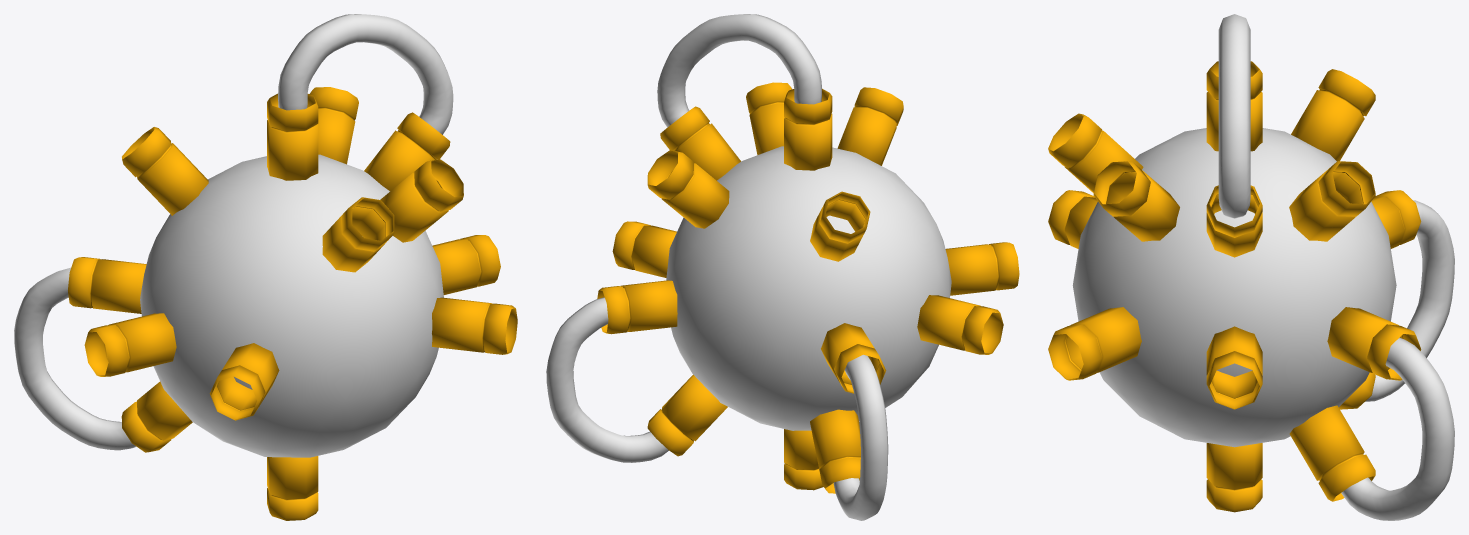
Rendered from URZA Heart Loading Model.fbx.
The picture shows the model from 3 angles, left to right: view 1: azimuth 30°, elevation 25°; view 2: azimuth 150°, elevation 25°; view 3: azimuth 270°, elevation 25°; orthographic projection. The views are drawn at different scales.
Visible parts, largest first — view 1: Icosphere.001, Cylinder.001, Plane.017, Plane.018; view 2: Icosphere.001, Cylinder.001, Plane.017, Plane.019, Plane.018; view 3: Icosphere.001, Cylinder.001, Plane.019, Plane.017, Plane.018.
Boxes of the visible parts, x1,y1,x2,y2 form: Icosphere.001: (140,154,443,457); Cylinder.001: (68,87,517,520); Plane.017: (278,14,453,134); Plane.018: (14,267,136,450); Icosphere.001: (666,146,951,430); Cylinder.001: (597,82,1019,493); Plane.017: (657,14,821,127); Plane.019: (546,297,668,462); Plane.018: (833,354,888,520); Icosphere.001: (1072,128,1396,447); Cylinder.001: (1048,61,1421,512); Plane.019: (1341,337,1454,520); Plane.017: (1218,14,1250,218); Plane.018: (1365,200,1454,401).
Bounding box in the file's own units: 50.56 × 59.33 × 43.09.
